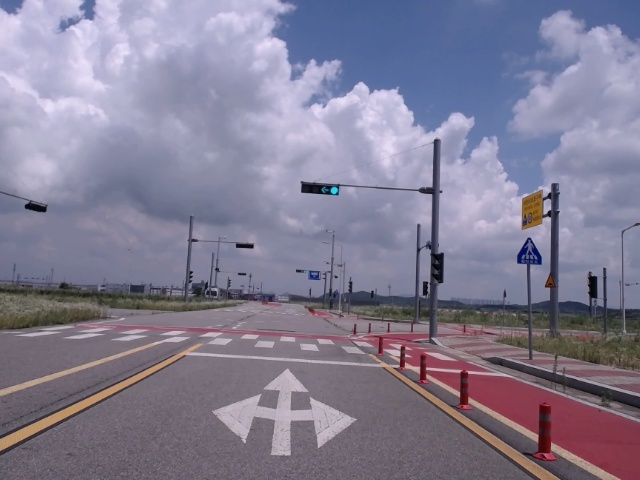all_green_4: (299, 181, 341, 192)
